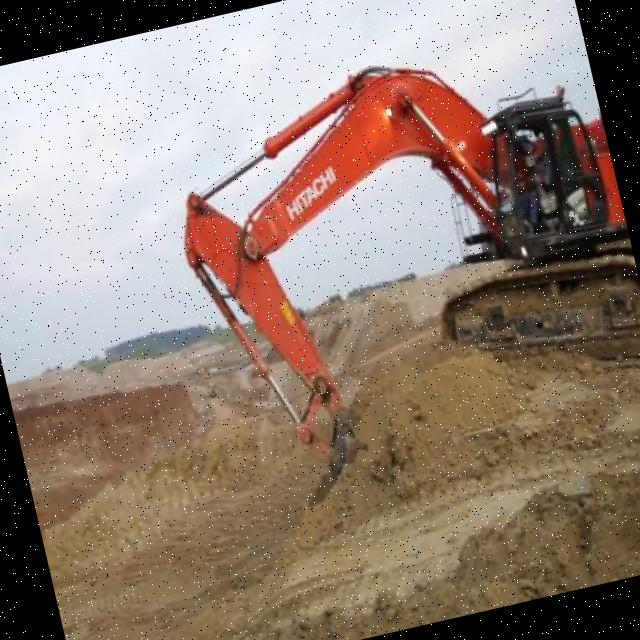Excavator: (152, 17, 640, 504)
